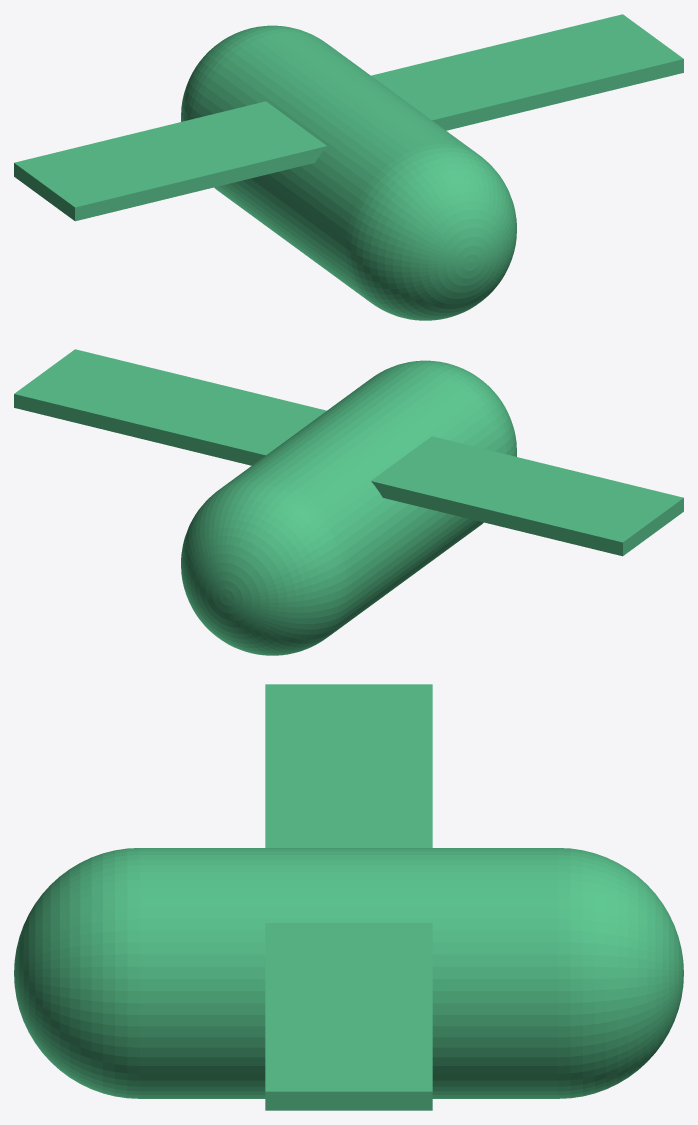
File: creature_4.glb
3 views of the same model, one above another, from view 1: azimuth 30°, elevation 25°; view 2: azimuth 150°, elevation 25°; view 3: azimuth 270°, elevation 25° (orthographic). The views are drawn at different scales.
Visible parts, largest first — view 1: geometry_0; view 2: geometry_0; view 3: geometry_0.
Boxes of the visible parts, box(x1,y1,x2,y2) form: geometry_0: box(14, 14, 683, 320); geometry_0: box(14, 349, 683, 655); geometry_0: box(14, 684, 683, 1110).
Bounding box in the file's own units: 4.6 × 1.2 × 3.2.
